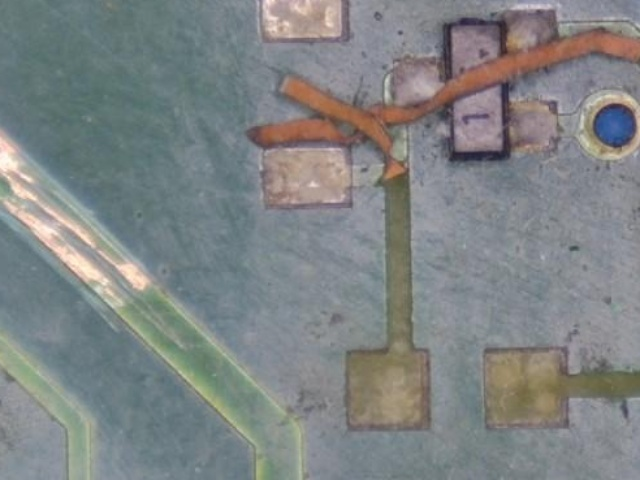pcb_defect: (244, 28, 640, 430), (279, 74, 430, 432), (2, 202, 108, 285), (0, 115, 37, 199), (44, 208, 94, 247), (97, 251, 145, 290)
